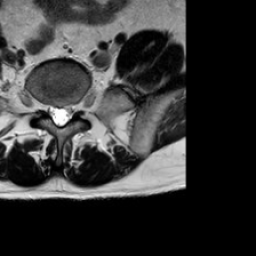CCS_normal: (55, 95, 63, 136)
LFS_normal: (72, 92, 80, 119)
LLS_normal: (63, 97, 72, 129)
RFS_normal: (38, 92, 48, 119)
RLS_normal: (48, 95, 55, 129)
